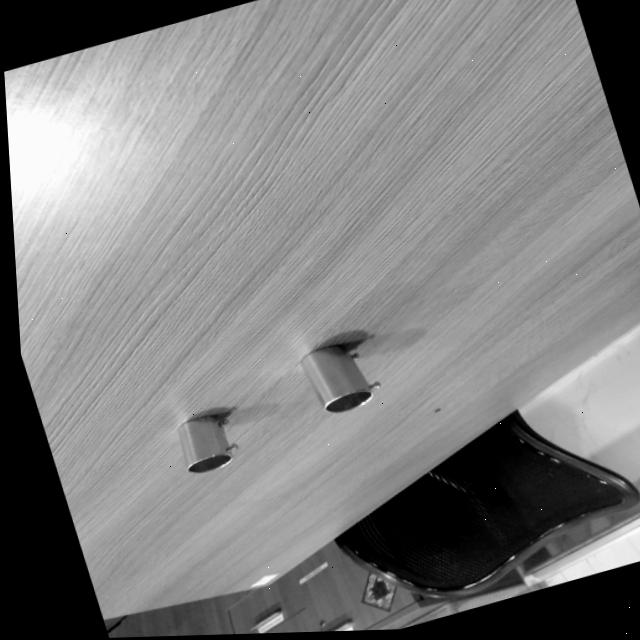Co_Lon: (292, 329, 383, 423)
Co_Nho: (175, 410, 240, 475)
